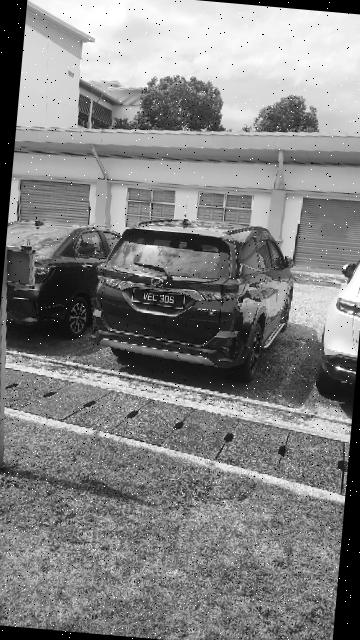License_Plate: (131, 285, 191, 313)
car: (90, 198, 304, 381)
